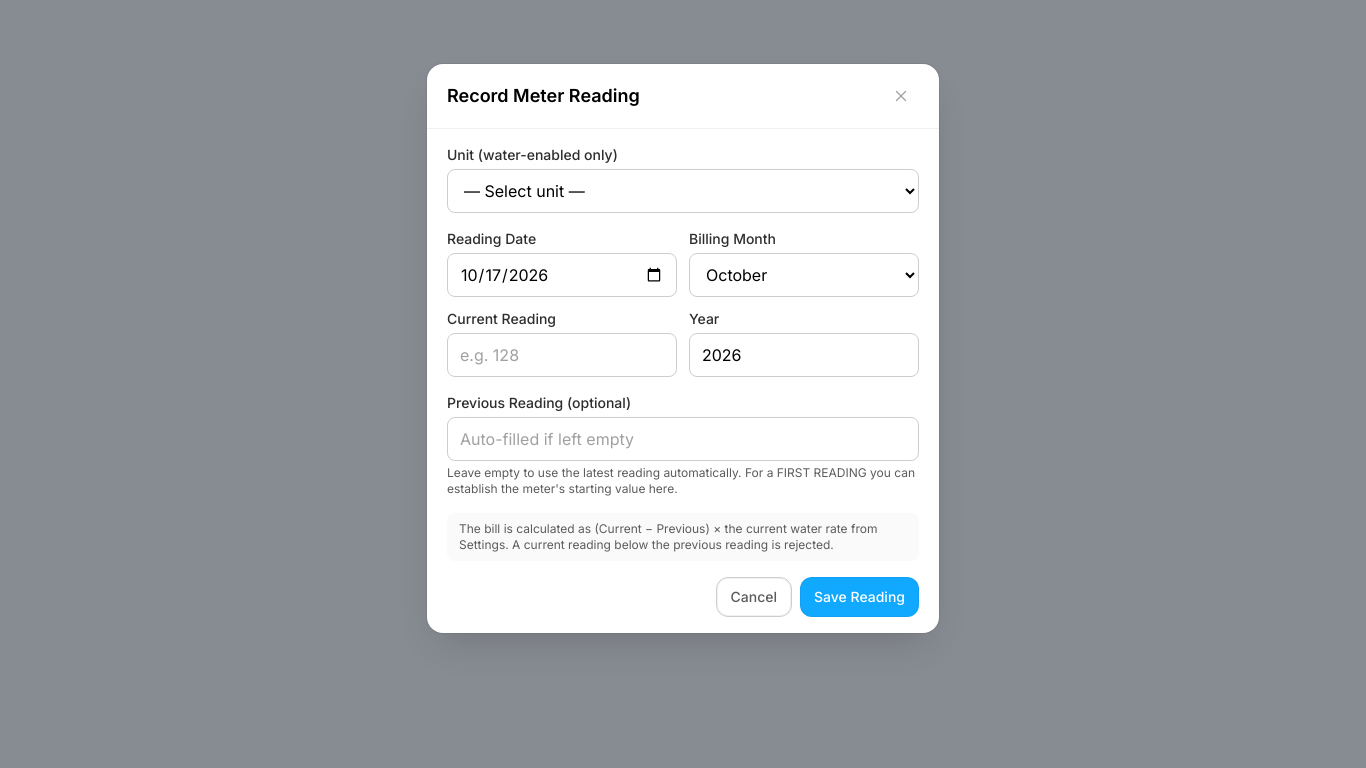
Test case: ReadingForm (round entry) › carries the round date and month across saves while the unit resets
Select "Unit 14 (Room) — Lewis M" in the dropdown labelled "Unit (water-enabled only)" at (683, 191), box [447, 169, 919, 213]
Type "2026-10-05" into the date field labelled "Reading Date" at (562, 275), box [447, 253, 677, 297]
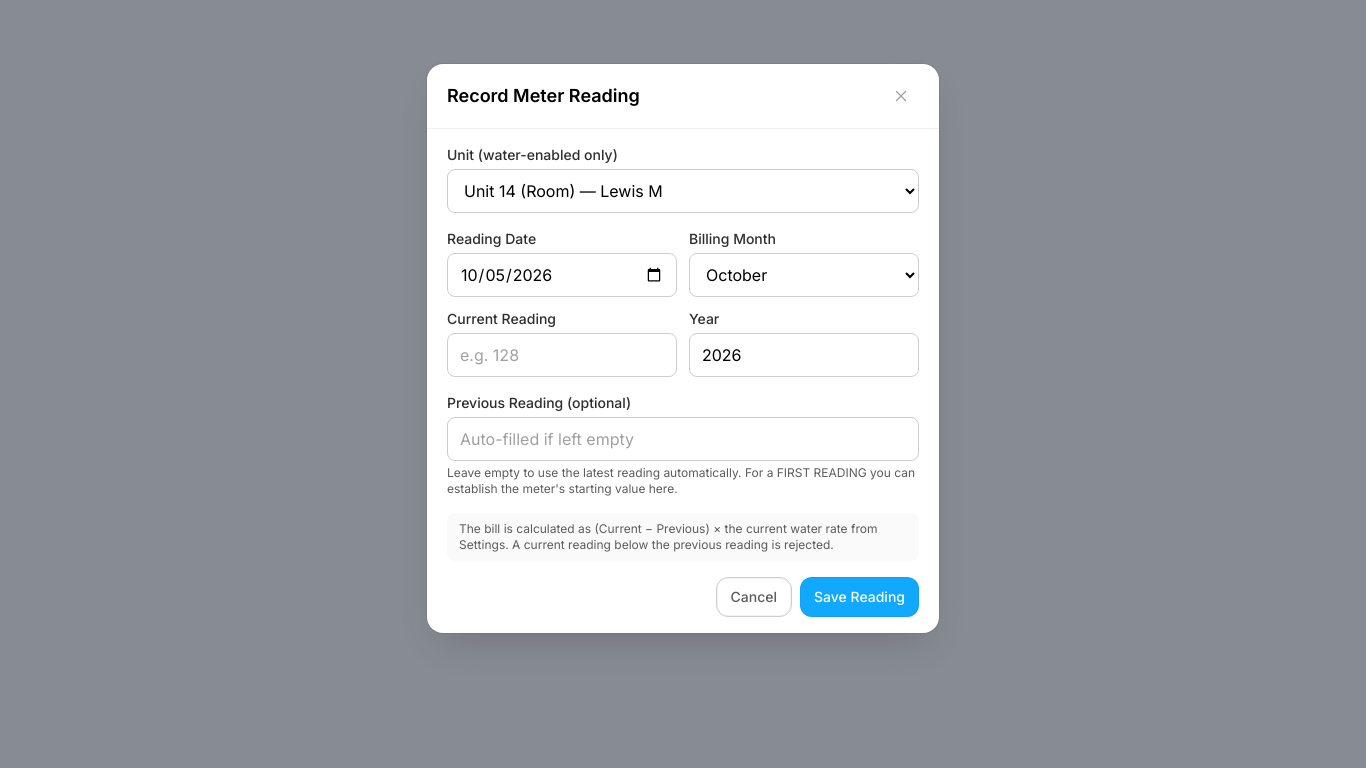
Select "October" in the dropdown labelled "Billing Month" at (804, 275), box [689, 253, 919, 297]
Type "130" into the number field labelled "Current Reading" at (562, 355), box [447, 333, 677, 377]
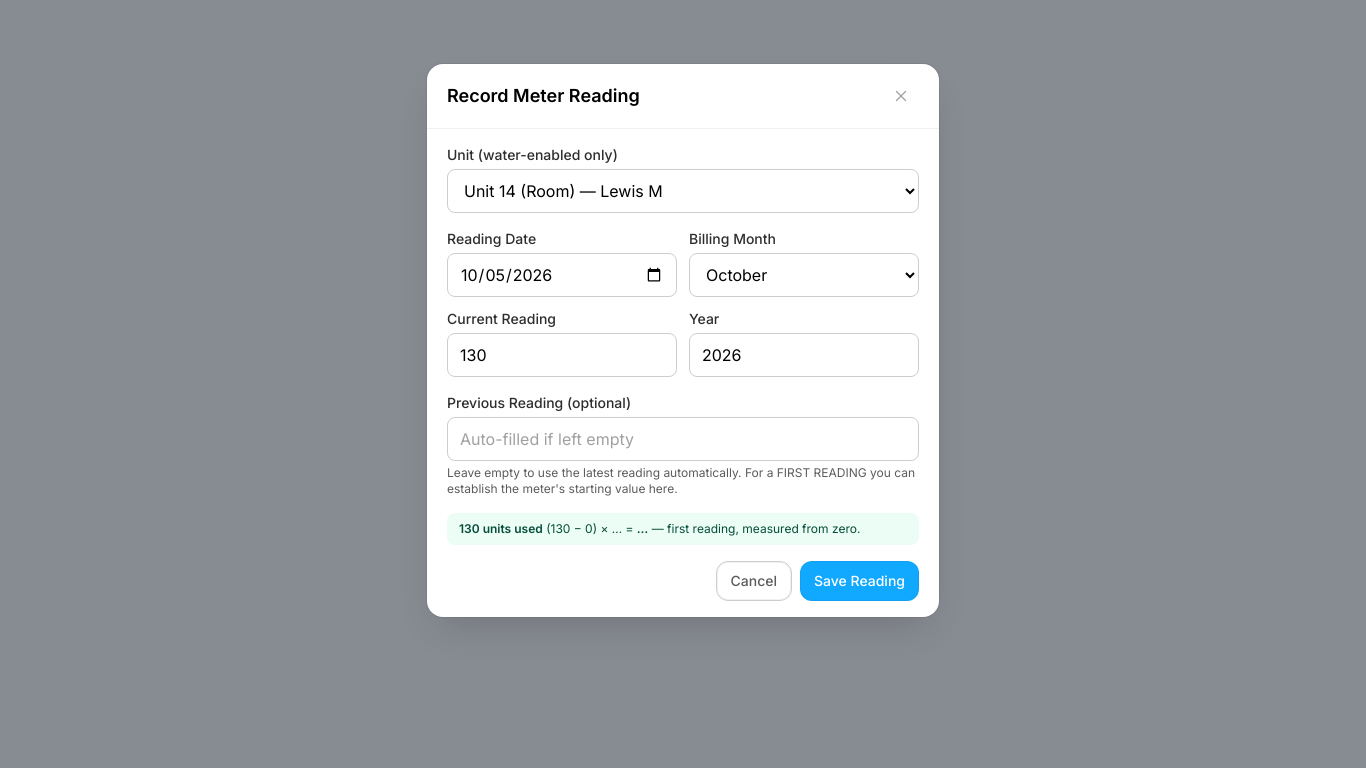
Click the button "Save Reading" at (860, 581), box [800, 561, 919, 601]
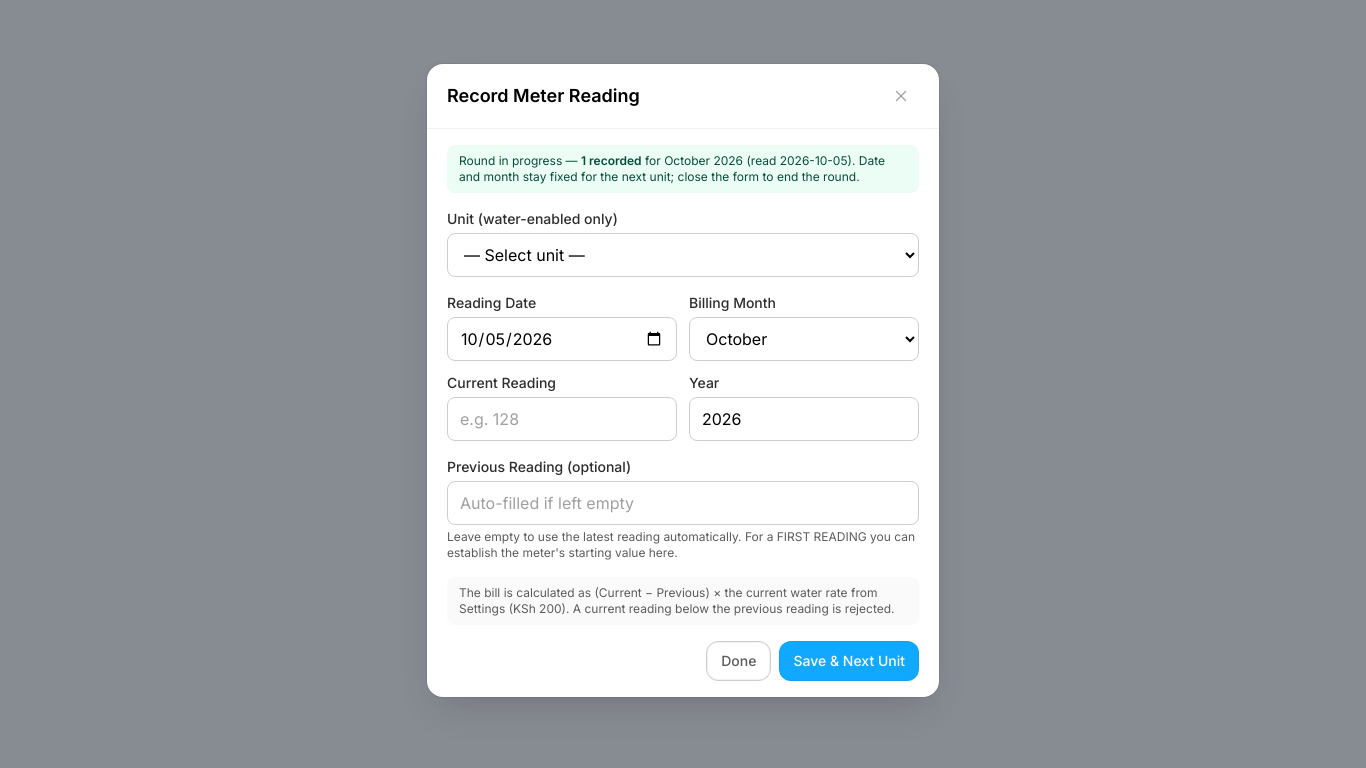
Expected: the number field labelled "Current Reading" is not empty, [447, 397, 677, 441]
Expected: the text "Round in progress" shows "1 recorded", [447, 145, 919, 193]
Select "Unit 15 (Room) — Amina K" in the dropdown labelled "Unit (water-enabled only)" at (683, 255), box [447, 233, 919, 277]
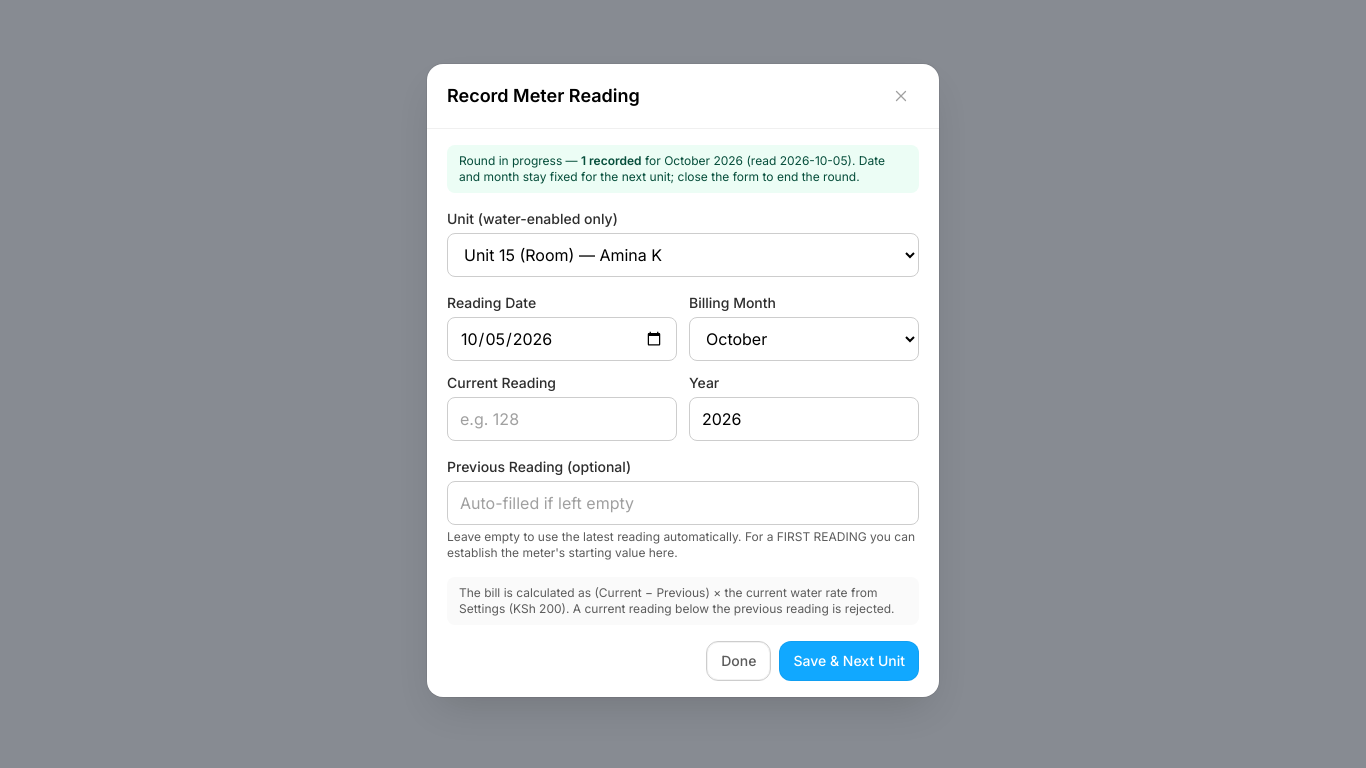
Type "140" into the number field labelled "Current Reading" at (562, 419), box [447, 397, 677, 441]
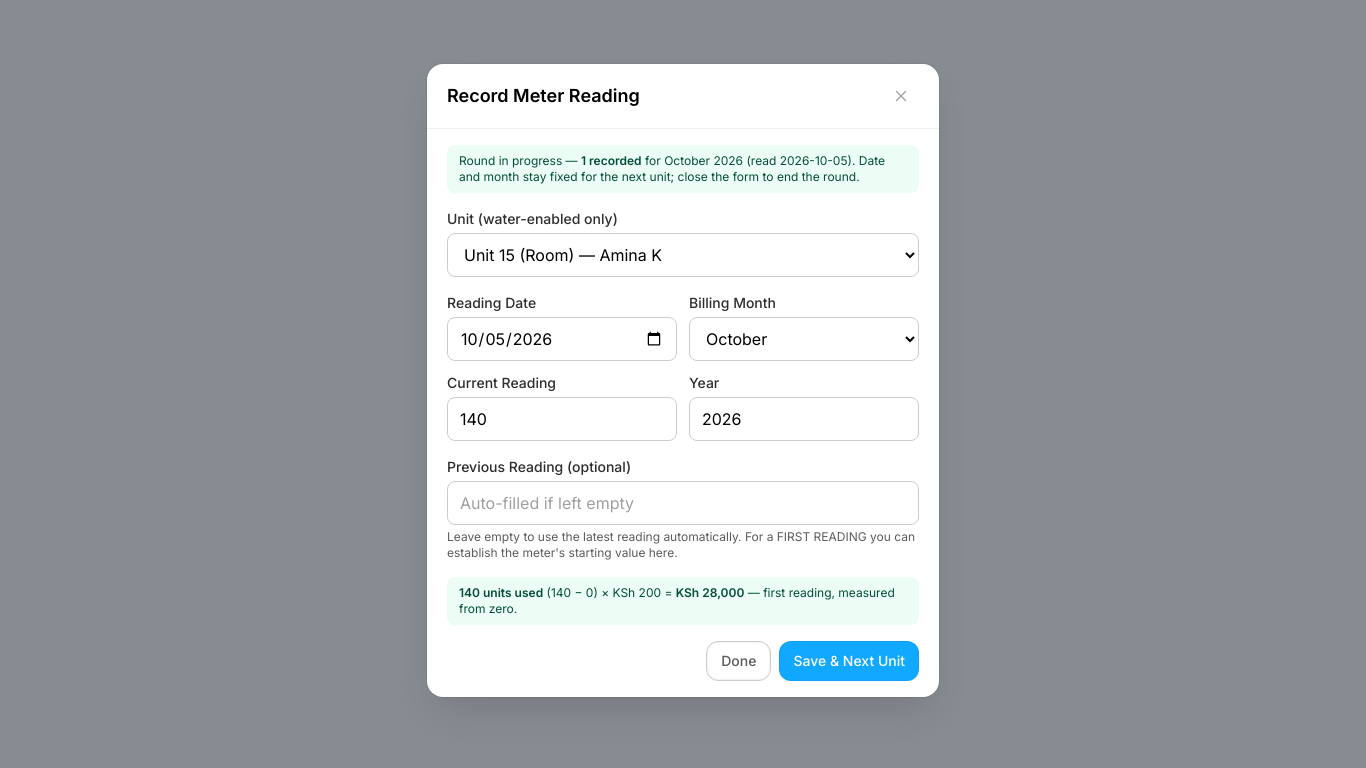
Click the button "Save & Next Unit" at (849, 661), box [780, 641, 919, 681]
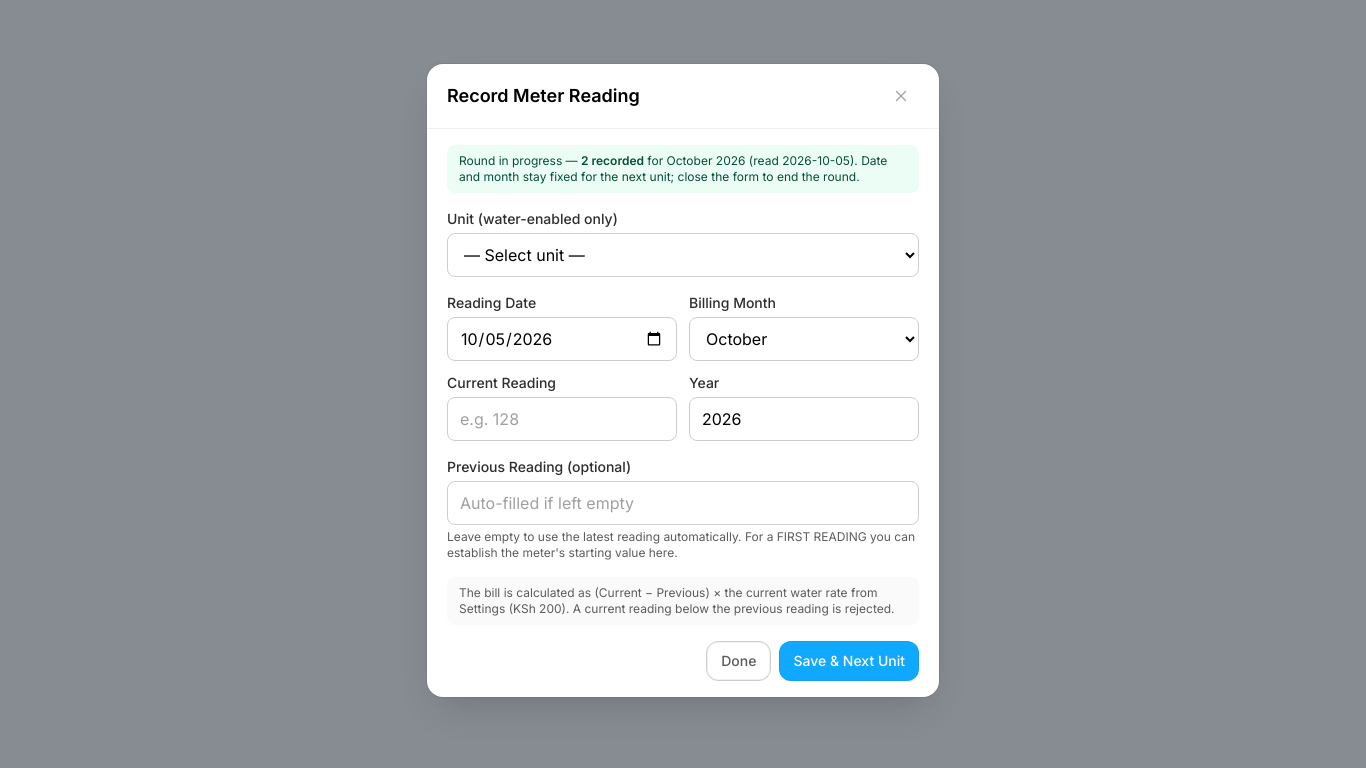
Expected: the text "Round in progress" shows "2 recorded", [447, 145, 919, 193]
